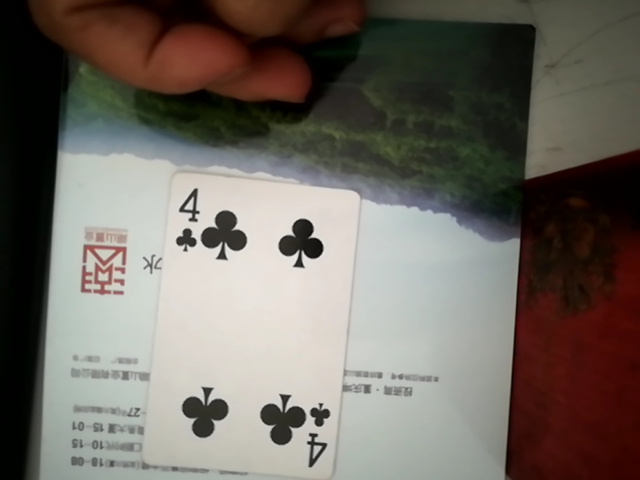mh 4: (148, 170, 346, 471)
